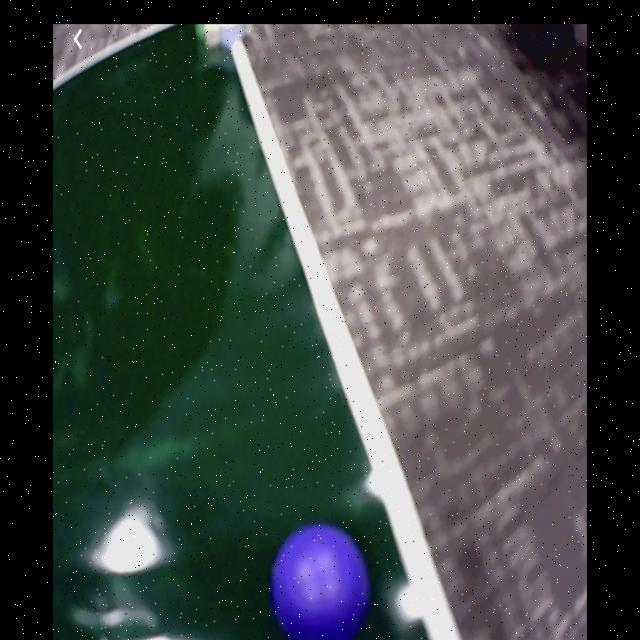ball: (270, 526, 367, 640)
